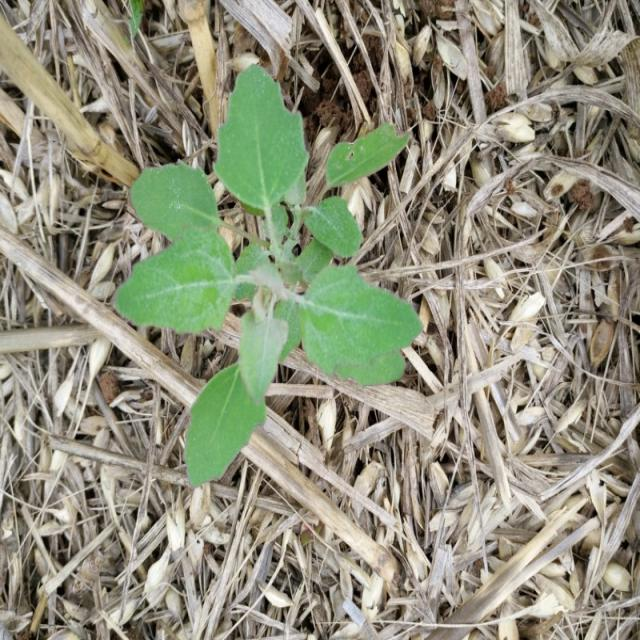ca: (116, 70, 430, 485)
